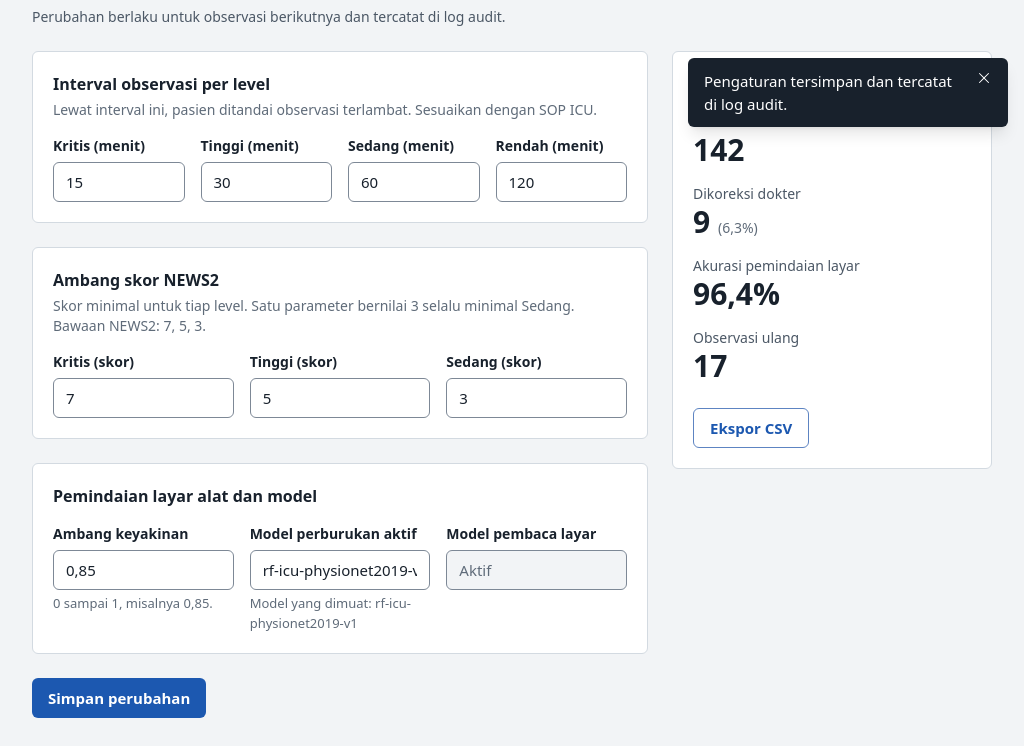
it: Pengaturan Penilaian ICU › tanpa perubahan tidak mengirim apa pun
(page scrolled)
Expected: the field showing "rf-icu-physionet2019-v1" is shown, [250,550,430,590]
Click the button "Simpan perubahan": x=119, y=698 [32,678,206,718]
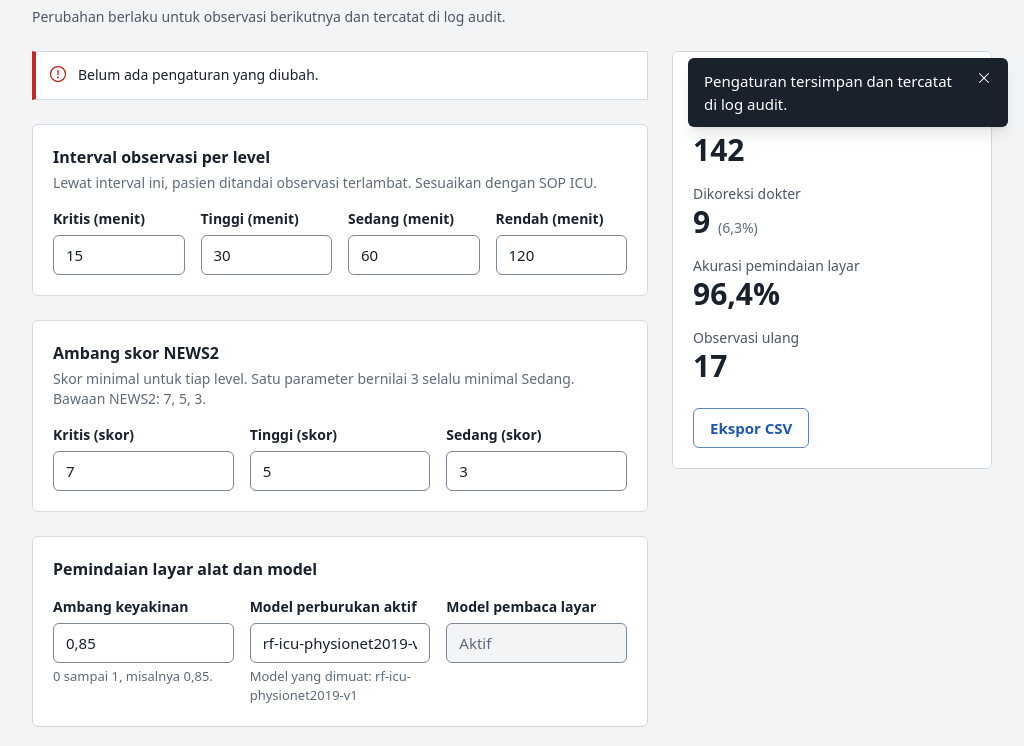
Now the message "Belum ada pengaturan yang diubah." is shown, box [32,51,648,100]
